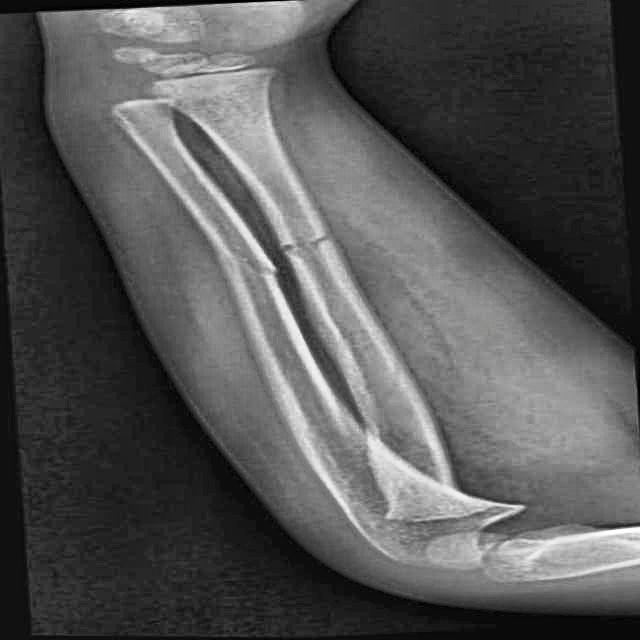Oblique Displaced: (201, 239, 291, 284)
Transverse Displaced: (267, 223, 357, 264)
